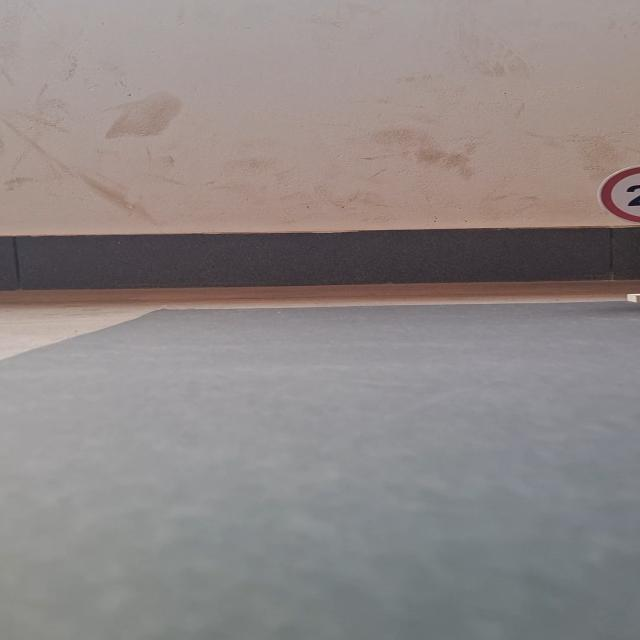Speed20: (593, 163, 640, 228)
